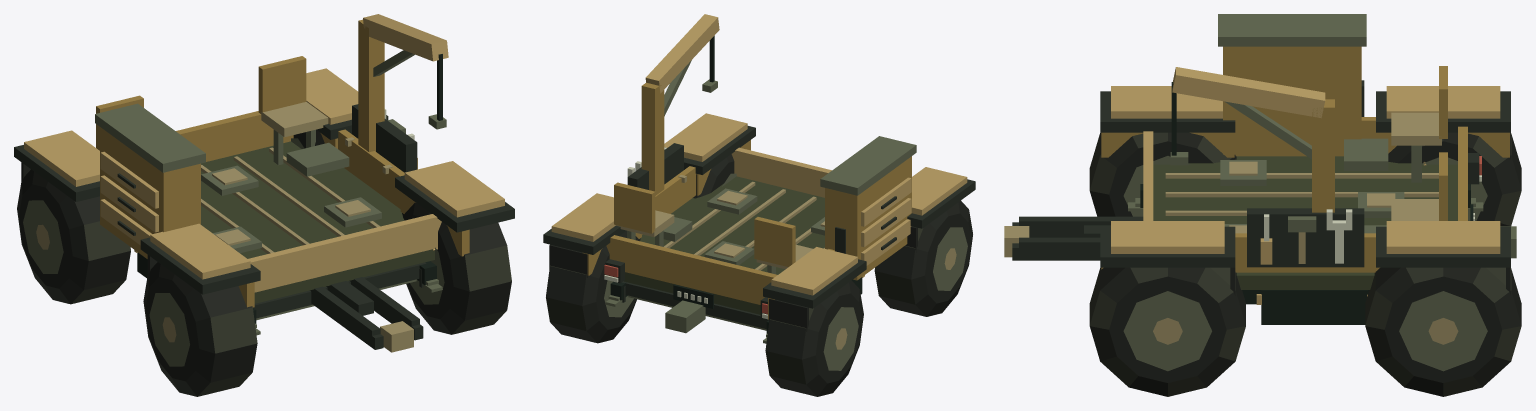
File: wagon_repair.obj
3 views of the same model, side by side, from view 1: azimuth 30°, elevation 25°; view 2: azimuth 150°, elevation 25°; view 3: azimuth 270°, elevation 25° (orthographic). The views are drawn at different scales.
Parts seen in each view (by area): view 1: WagonDeck.001, WagonDetails_repair, AllTerrainTire.004, AllTerrainTire.006, AllTerrainTire.005, DrawbarFrame.001; view 2: WagonDeck.001, WagonDetails_repair, AllTerrainTire.006, AllTerrainTire.004, AllTerrainTire.007, AllTerrainTire.005; view 3: WagonDeck.001, WagonDetails_repair, AllTerrainTire.005, AllTerrainTire.007, AllTerrainTire.004, AllTerrainTire.006, DrawbarFrame.001.
Boxes of the visible parts, x1,y1,x2,y2 form: WagonDeck.001: (14, 56, 514, 342); WagonDetails_repair: (95, 14, 448, 258); AllTerrainTire.004: (143, 262, 257, 396); AllTerrainTire.006: (17, 169, 130, 304); AllTerrainTire.005: (402, 202, 511, 334); DrawbarFrame.001: (311, 286, 423, 352); WagonDeck.001: (543, 113, 975, 343); WagonDetails_repair: (627, 14, 916, 280); AllTerrainTire.006: (765, 280, 863, 396); AllTerrainTire.004: (874, 200, 972, 316); AllTerrainTire.007: (546, 231, 640, 343); AllTerrainTire.005: (693, 154, 736, 198); WagonDeck.001: (1019, 66, 1516, 324); WagonDetails_repair: (1170, 14, 1366, 272); AllTerrainTire.005: (1089, 267, 1245, 396); AllTerrainTire.007: (1365, 267, 1521, 396); AllTerrainTire.004: (1089, 132, 1236, 216); AllTerrainTire.006: (1388, 132, 1521, 226); DrawbarFrame.001: (1004, 222, 1100, 260).
Bounding box in the file's own units: 4.48 × 3.83 × 5.82.
2 materials, 2 textured.
